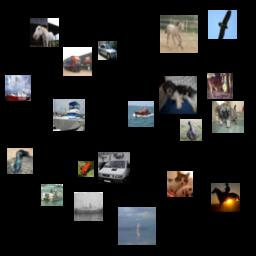automobile: (98, 41, 117, 60)
bird: (208, 10, 237, 39), (7, 148, 33, 174), (180, 119, 202, 141)
cat: (167, 171, 193, 197)
deer: (207, 73, 233, 99)
dog: (159, 76, 197, 114), (212, 101, 244, 133)
frog: (78, 161, 94, 177)
ship: (118, 207, 156, 245), (53, 99, 85, 131), (74, 192, 103, 221), (128, 101, 154, 127), (5, 75, 31, 101), (41, 184, 63, 206)
truck: (98, 152, 130, 184), (63, 47, 92, 76)
